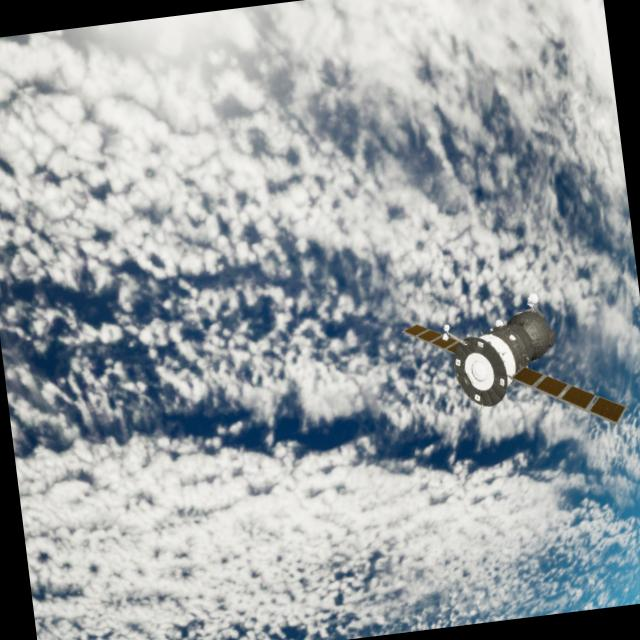Satellites revolving around earth: (398, 280, 630, 452)
